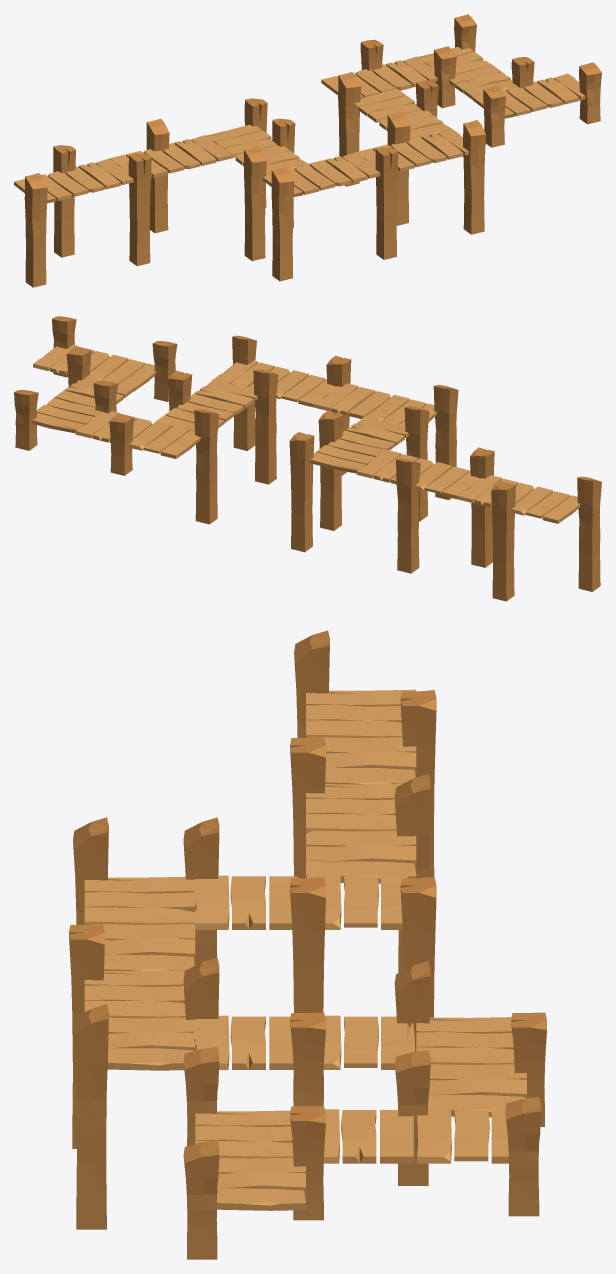
The model's file is m_bg_docks_03.fbx.
3 renders of one model, top to bottom at view 1: azimuth 30°, elevation 25°; view 2: azimuth 150°, elevation 25°; view 3: azimuth 270°, elevation 25°, orthographic. The views are drawn at different scales.
Visible parts, largest first — view 1: m_bg_docks_03; view 2: m_bg_docks_03; view 3: m_bg_docks_03.
Part boxes in pixels (x1,y1,x2,y2): m_bg_docks_03: [14, 14, 601, 287]; m_bg_docks_03: [14, 316, 601, 601]; m_bg_docks_03: [69, 630, 546, 1259].
Size of the model in its own units: 5656 by 1107 by 2163.
